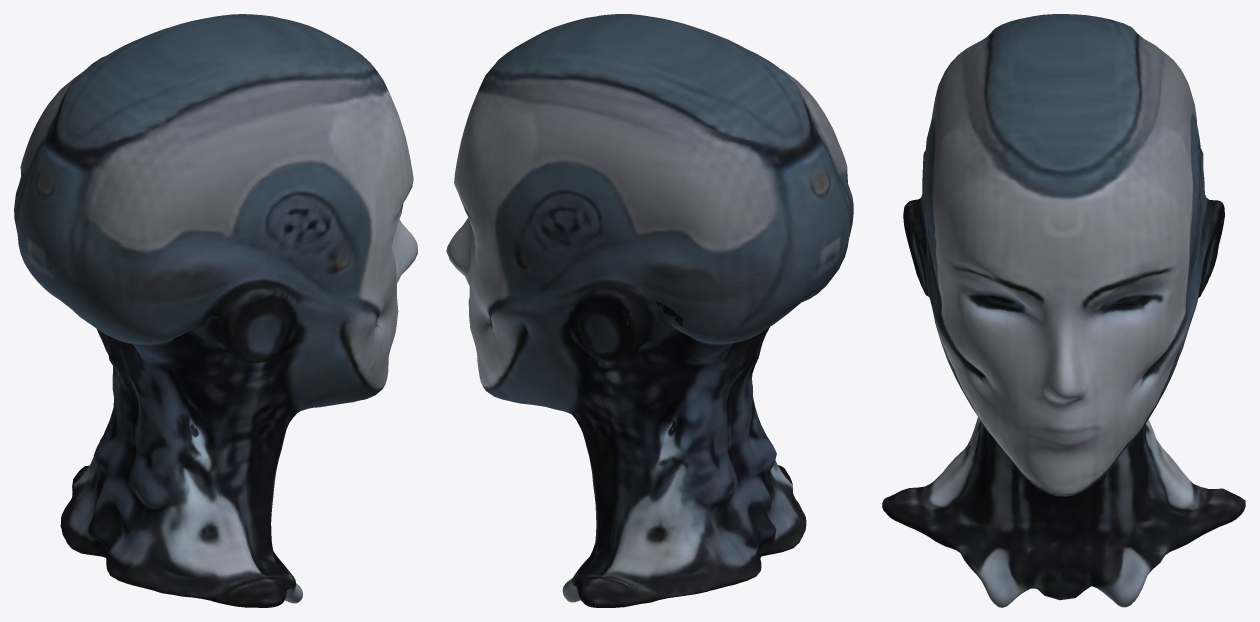
File: Robot.glb
3 renders of one model, left to right at view 1: azimuth 30°, elevation 25°; view 2: azimuth 150°, elevation 25°; view 3: azimuth 270°, elevation 25°, orthographic.
Visible parts, largest first — view 1: mesh; view 2: mesh; view 3: mesh.
Part boxes in pixels (bbox=[...]): mesh: bbox=[14, 14, 417, 607]; mesh: bbox=[446, 14, 853, 607]; mesh: bbox=[882, 14, 1245, 607].
Size of the model in its own units: 0.7203 by 0.9975 by 0.6027.
1 material, 1 textured.
